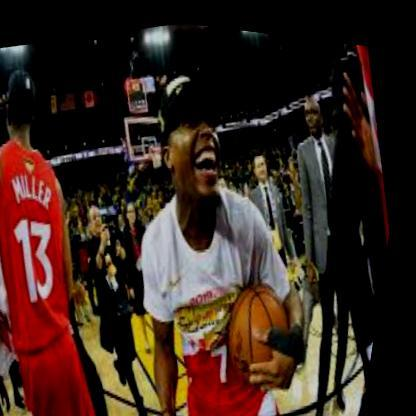basketball: (217, 265, 319, 392)
